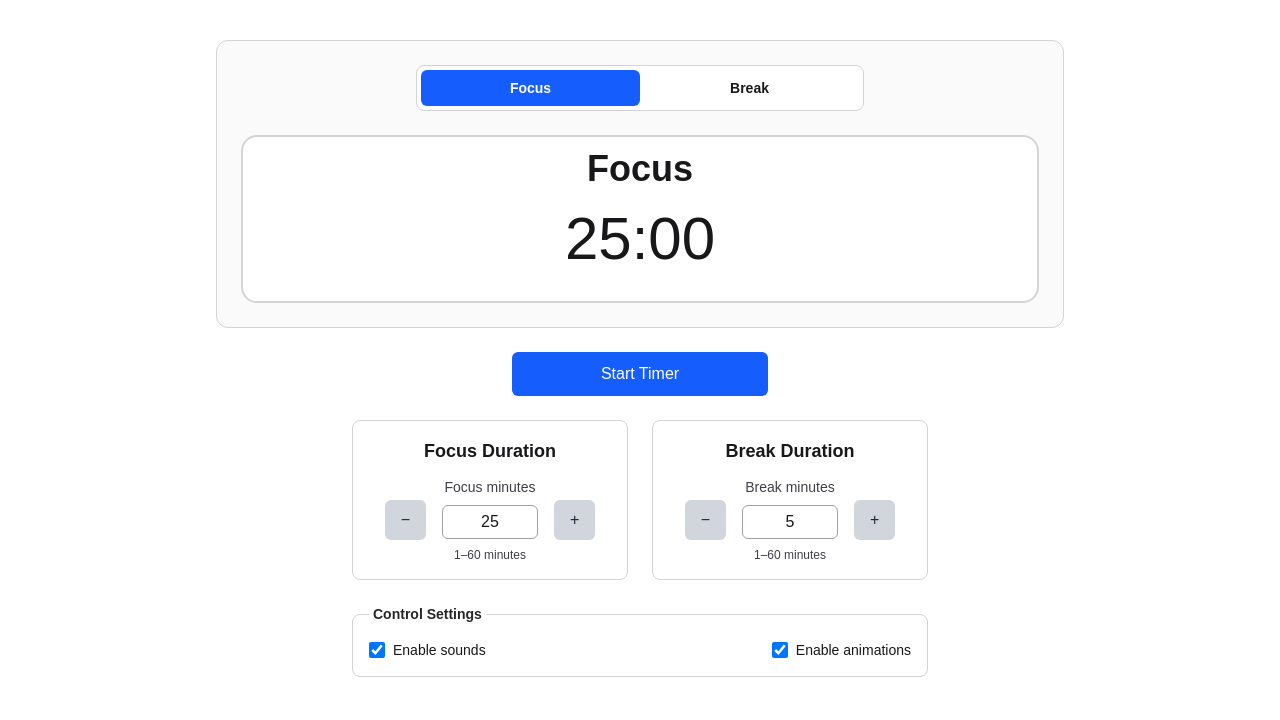
Test case: PomodoroTimer › locks opposite mode after start and unlocks only after delete/reset
This screenshot has width=1280, height=720.
Expected: the button "Break" is enabled, [640,70,859,106]
Click the button "Start Timer".
click(640, 374)  # box [512,352,768,396]
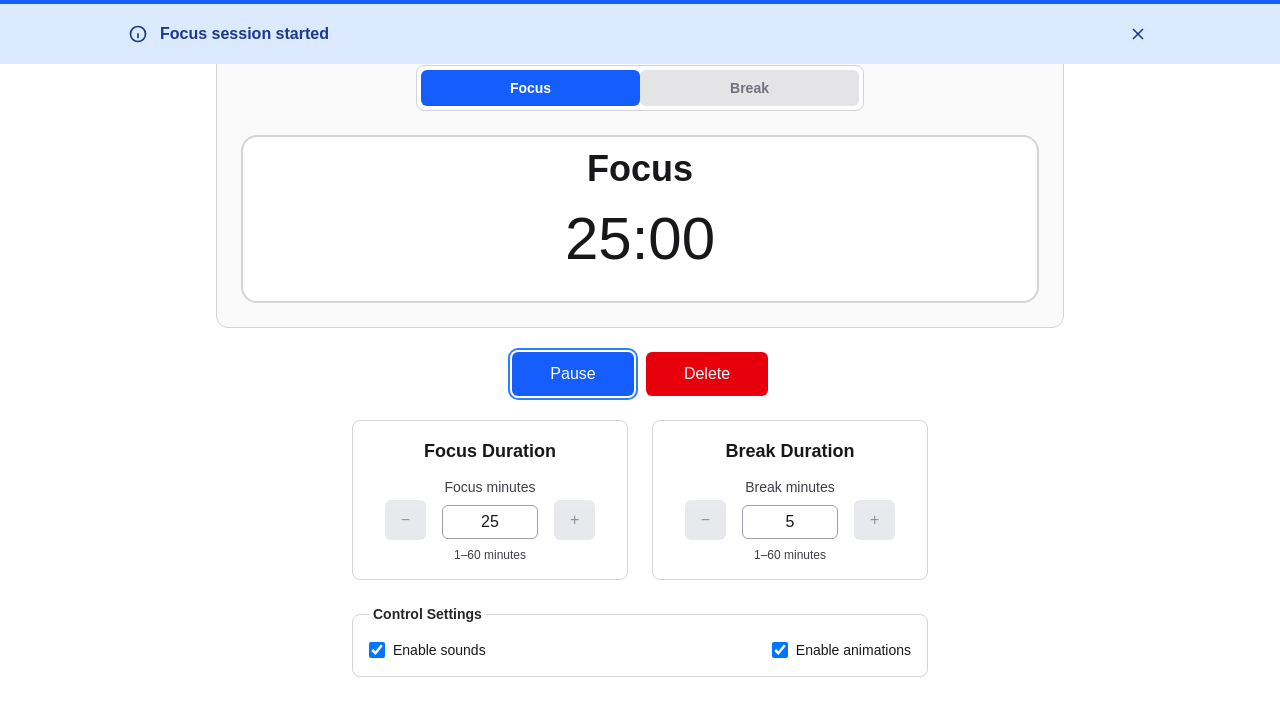
Result: the button "Break" is disabled at [640,70,859,106]
Click the button "Pause".
click(573, 374)  # box [512,352,634,396]
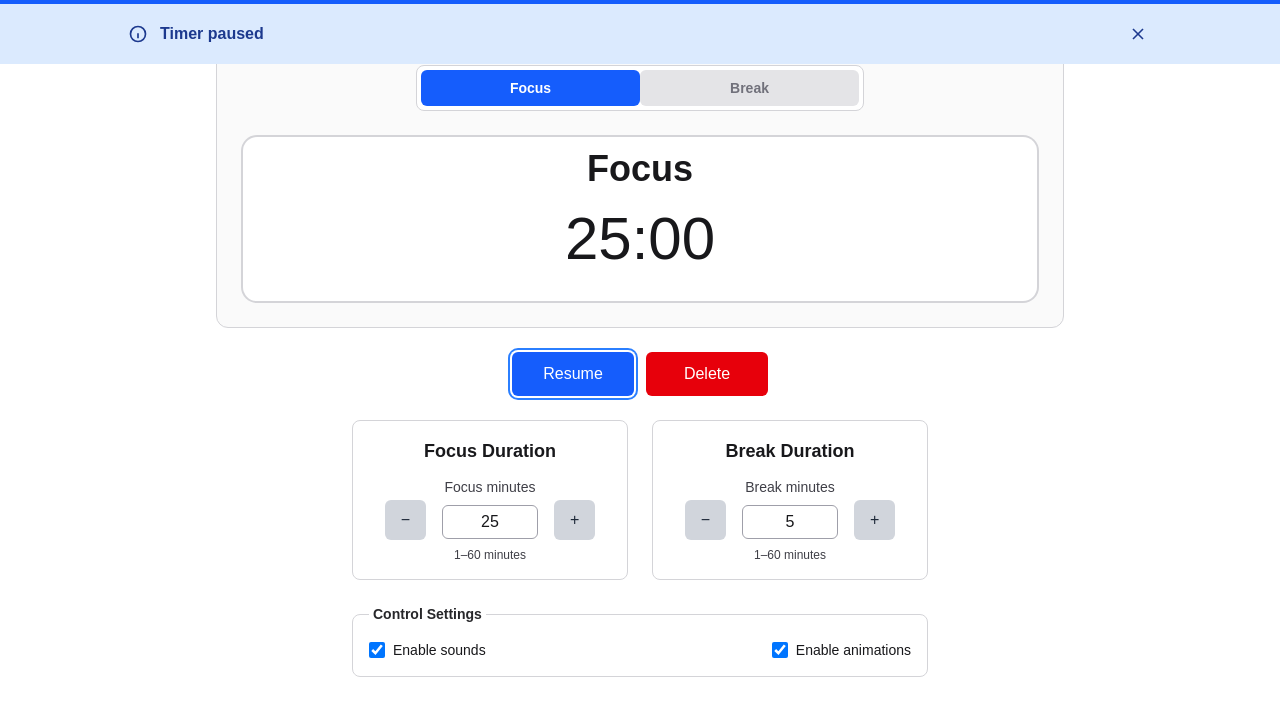
Result: the button "Break" is disabled at [640,70,859,106]
Click the button "Delete".
click(707, 374)  # box [646,352,768,396]
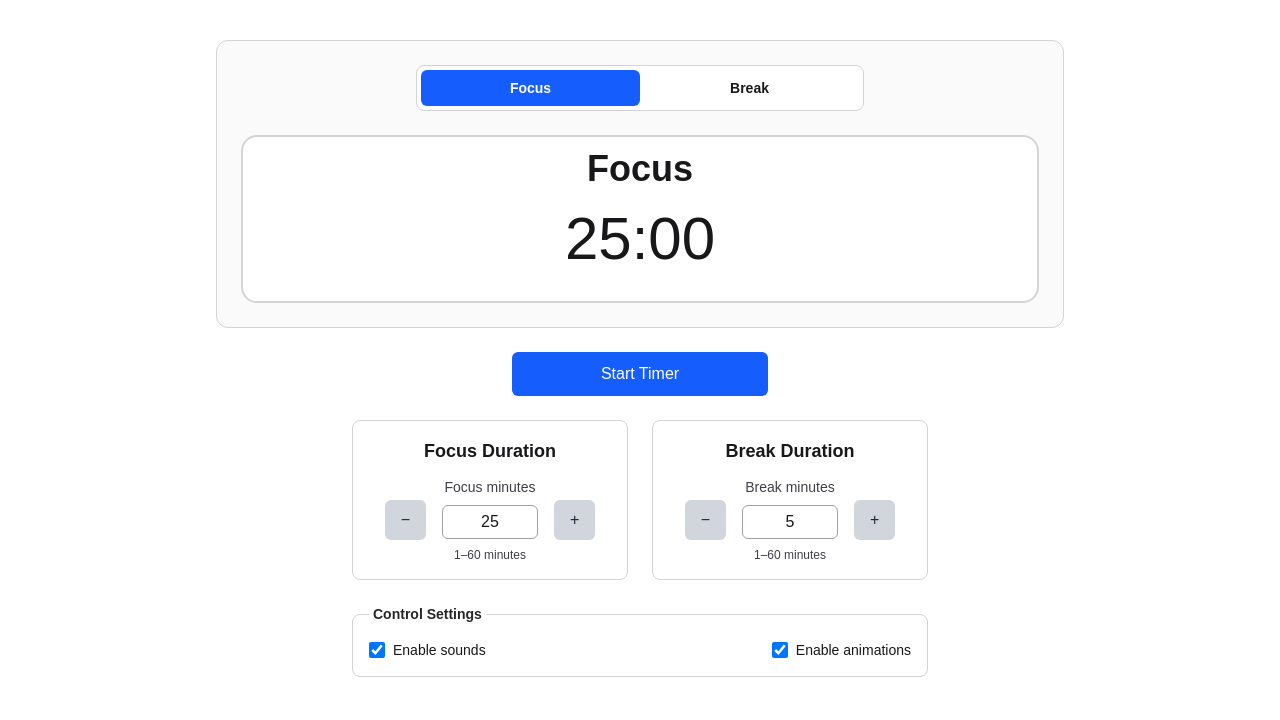
Result: the button "Break" is enabled at [640,70,859,106]
